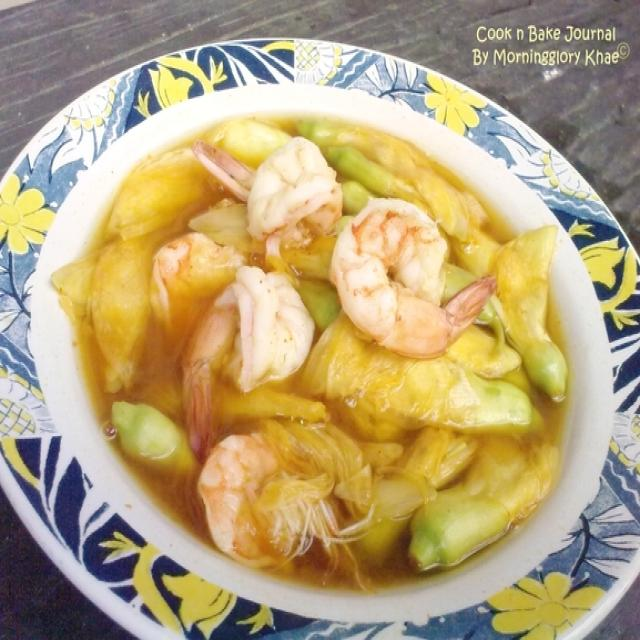汤锅炖物: (16, 34, 631, 624)
